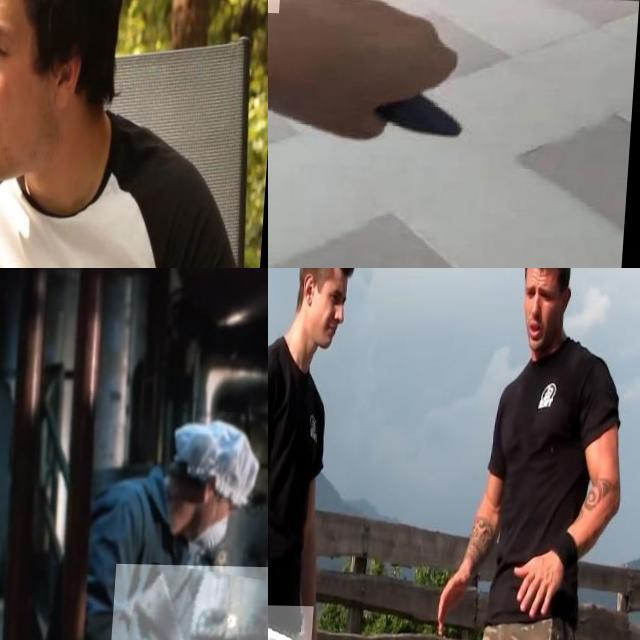-: (268, 0, 404, 82), (268, 604, 319, 640)
gun-knife-thesis - v11 Yolov5 augmented: (107, 562, 268, 640)
